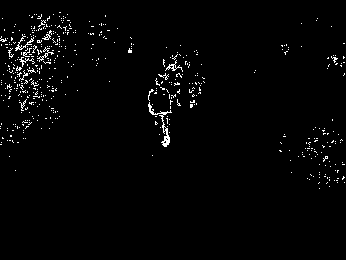person: (146, 72, 173, 149)
